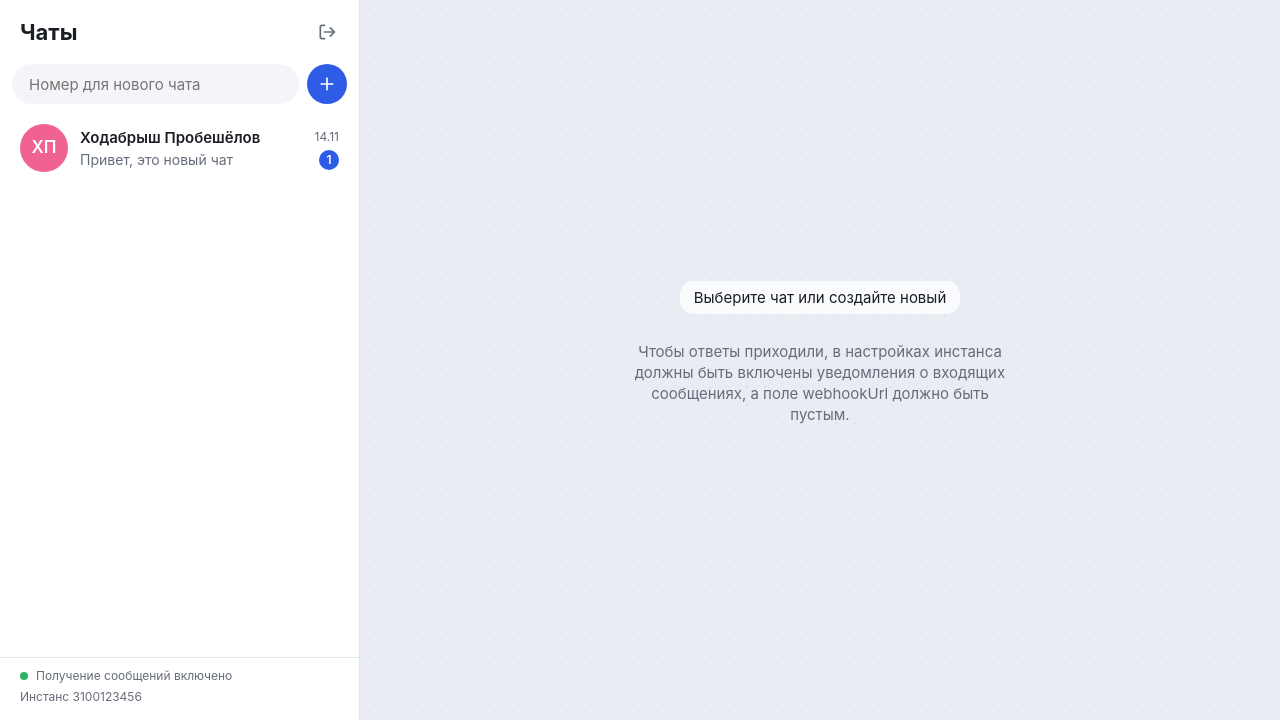
Test: ChatScreen › receiving › creates a chat for a new sender with an unread badge
Expected: the text "Привет, это новый чат" is shown, x1=80 y1=150 x2=233 y2=169
Expected: the text named "Непрочитанных: 1" is shown, x1=319 y1=150 x2=339 y2=170
What coordinates should you click on to do the following:
click the button "Ходабрыш Пробешёлов"
I would click on:
 (180, 148)
Its box is x1=8 y1=116 x2=351 y2=180.
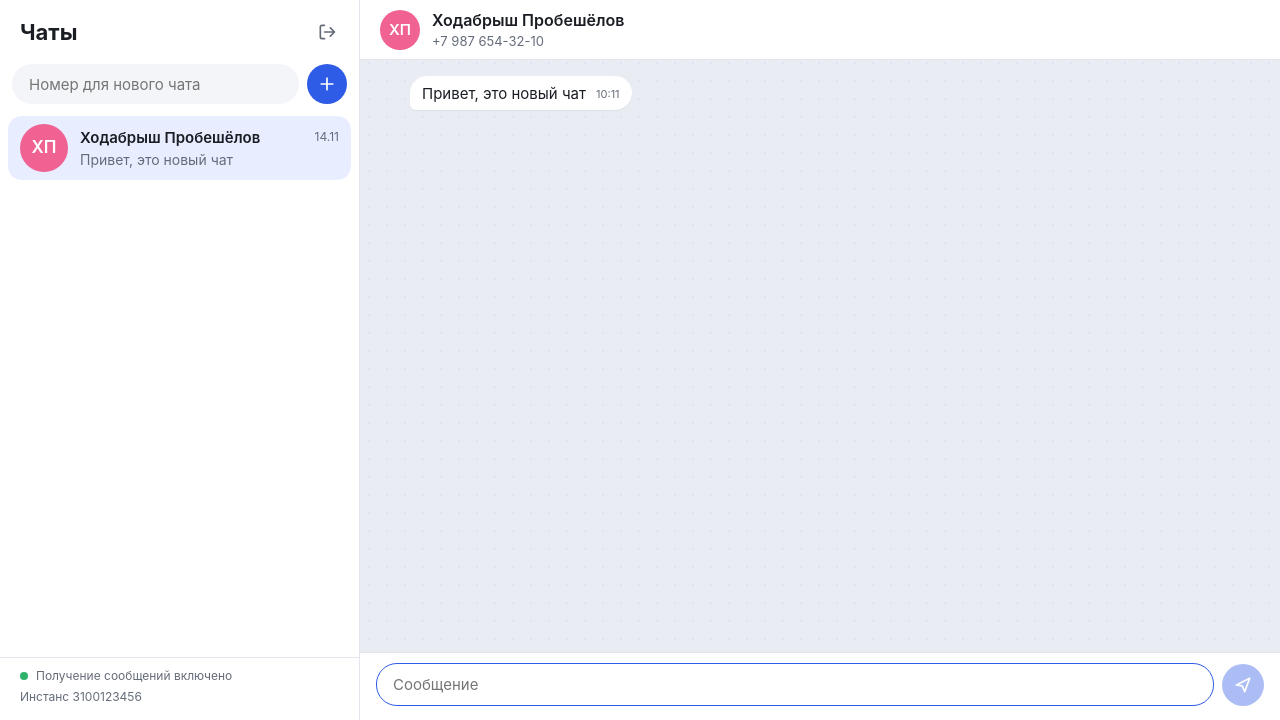
Result: the text "Привет, это новый чат" next to "10:11" is shown at x1=422 y1=84 x2=586 y2=103
